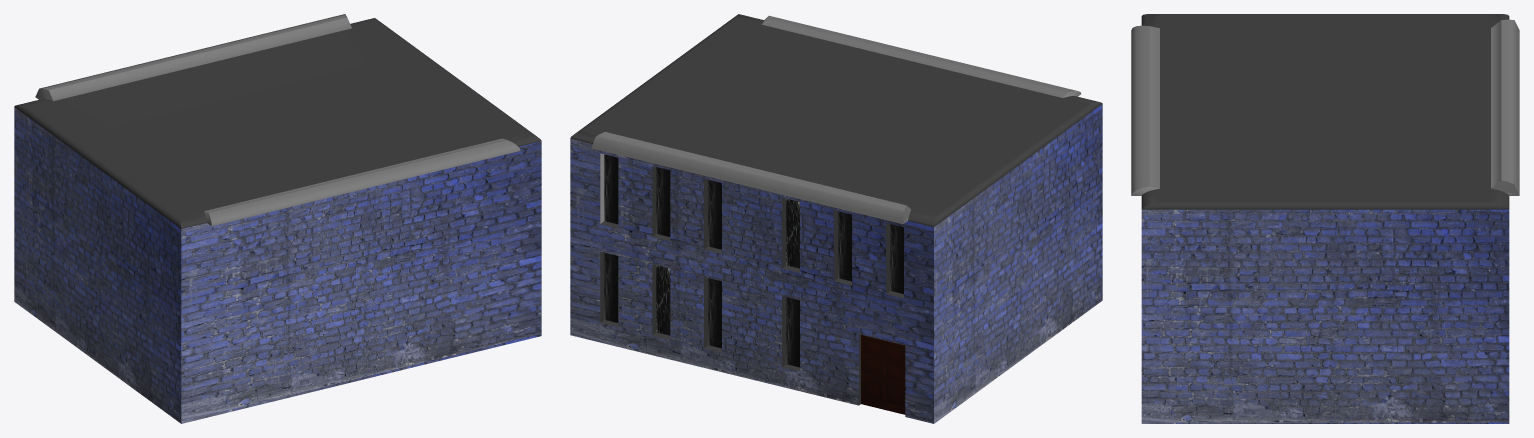
Rendered from building_v3_final.fbx.
3 views of the same model, side by side, from view 1: azimuth 30°, elevation 25°; view 2: azimuth 150°, elevation 25°; view 3: azimuth 270°, elevation 25° (orthographic). The views are drawn at different scales.
Visible parts, largest first — view 1: building_v4:pCube1; view 2: building_v4:pCube1; view 3: building_v4:pCube1.
Boxes of the visible parts, bbox=[...] form: building_v4:pCube1: bbox=[14, 14, 541, 423]; building_v4:pCube1: bbox=[570, 14, 1102, 423]; building_v4:pCube1: bbox=[1131, 14, 1519, 423].
Size of the model in its own units: 107 by 58.58 by 90.77.
7 materials, 4 textured.
